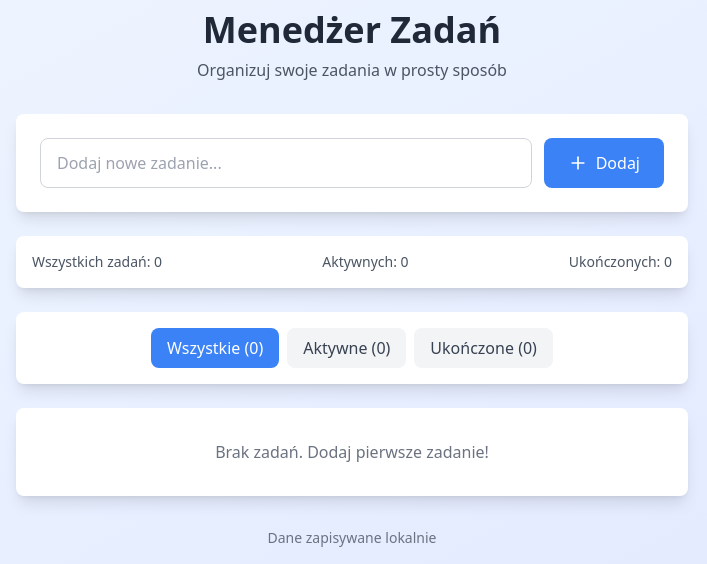
Test: TaskManager › allows adding a task
In the field with placeholder "Dodaj nowe zadanie...": (286, 163) [40,138,532,188], type "Nowe zadanie"
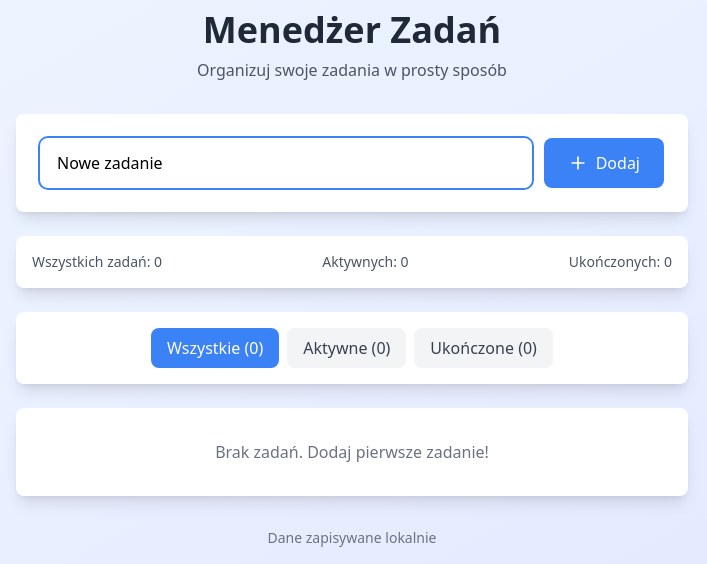
Click the button with aria-label "Add task": (604, 163) [544,138,664,188]
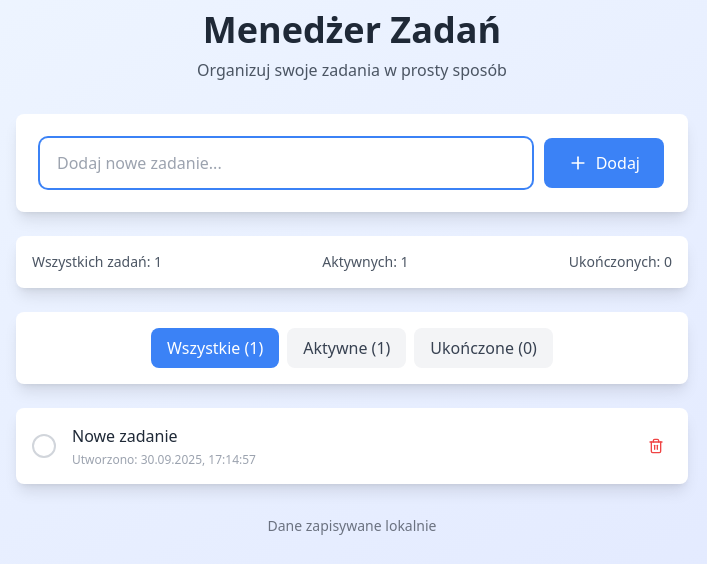
Expected: the text "Nowe zadanie" is shown, [72,425,178,447]
